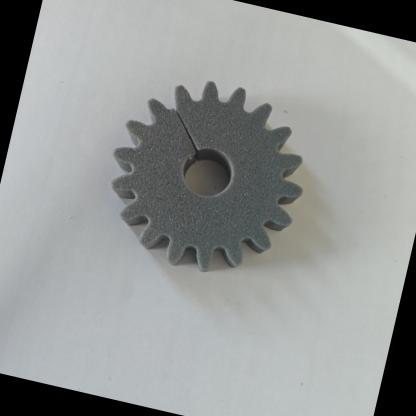defect: (115, 69, 234, 176)
gear: (69, 49, 335, 303)
